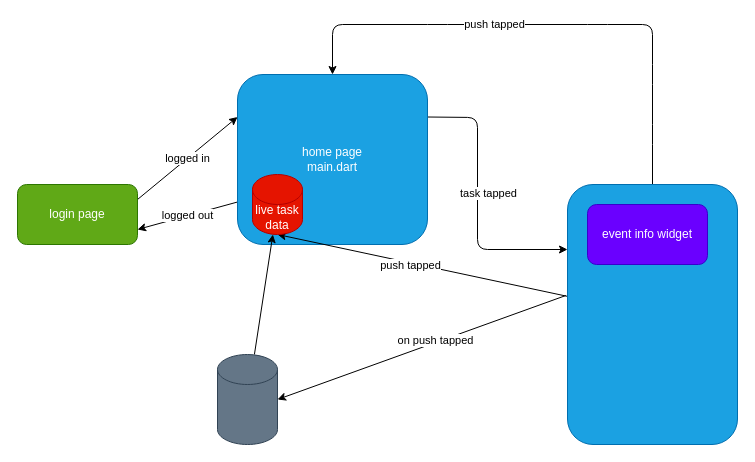
The diagram is 755 pixels wide and 462 high, and some of its shapes have lost their labels. Each missing label, with the box of its shape:
task DB: (216, 354, 278, 444)
task page taskPage.dart: (566, 184, 738, 444)
